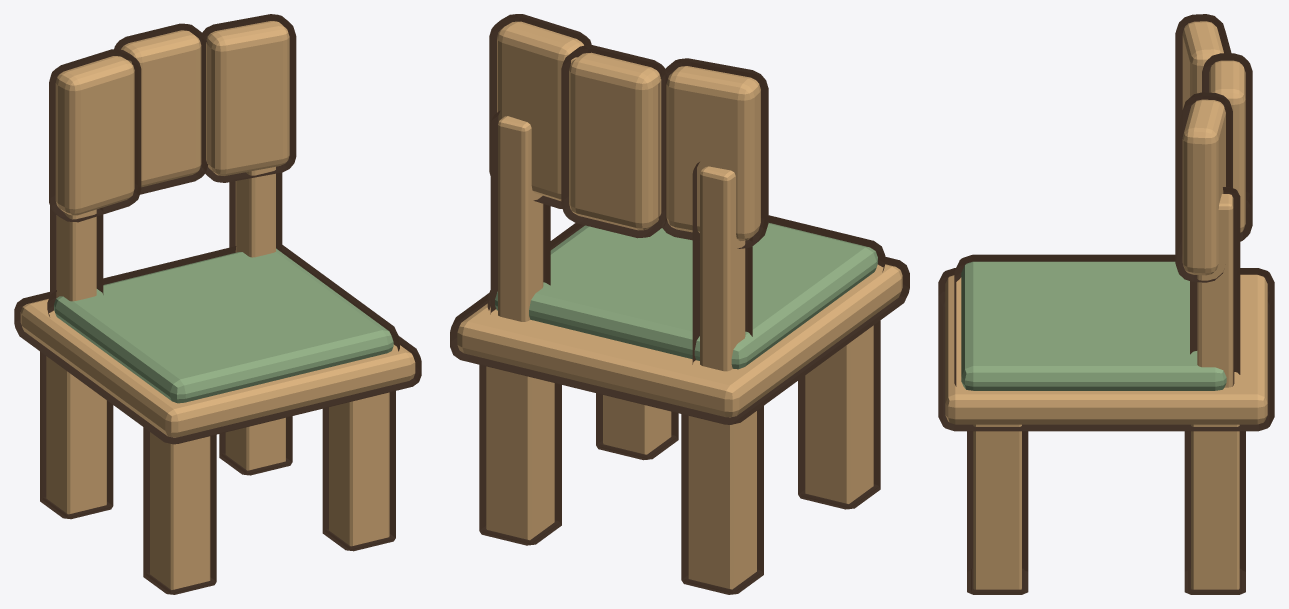
File: botanic-seat.glb
3 renders of one model, left to right at view 1: azimuth 30°, elevation 25°; view 2: azimuth 150°, elevation 25°; view 3: azimuth 270°, elevation 25°, orthographic. The views are drawn at different scales.
Parts seen in each view (by area): view 1: botanic-seat.002, botanic-seat-outline.002; view 2: botanic-seat.002, botanic-seat-outline.002; view 3: botanic-seat.002, botanic-seat-outline.002.
Boxes of the visible parts, box(x1,y1,x2,y2) form: botanic-seat.002: box(20, 21, 415, 589); botanic-seat-outline.002: box(14, 14, 421, 594); botanic-seat.002: box(457, 21, 902, 589); botanic-seat-outline.002: box(450, 14, 909, 594); botanic-seat.002: box(945, 21, 1267, 589); botanic-seat-outline.002: box(938, 14, 1274, 594).
Bounding box in the file's own units: 0.7848 × 1.28 × 0.8348.
